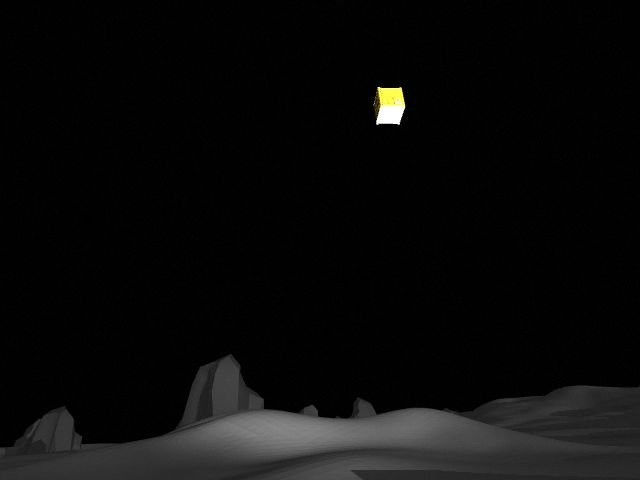cubesat: (370, 83, 408, 133)
